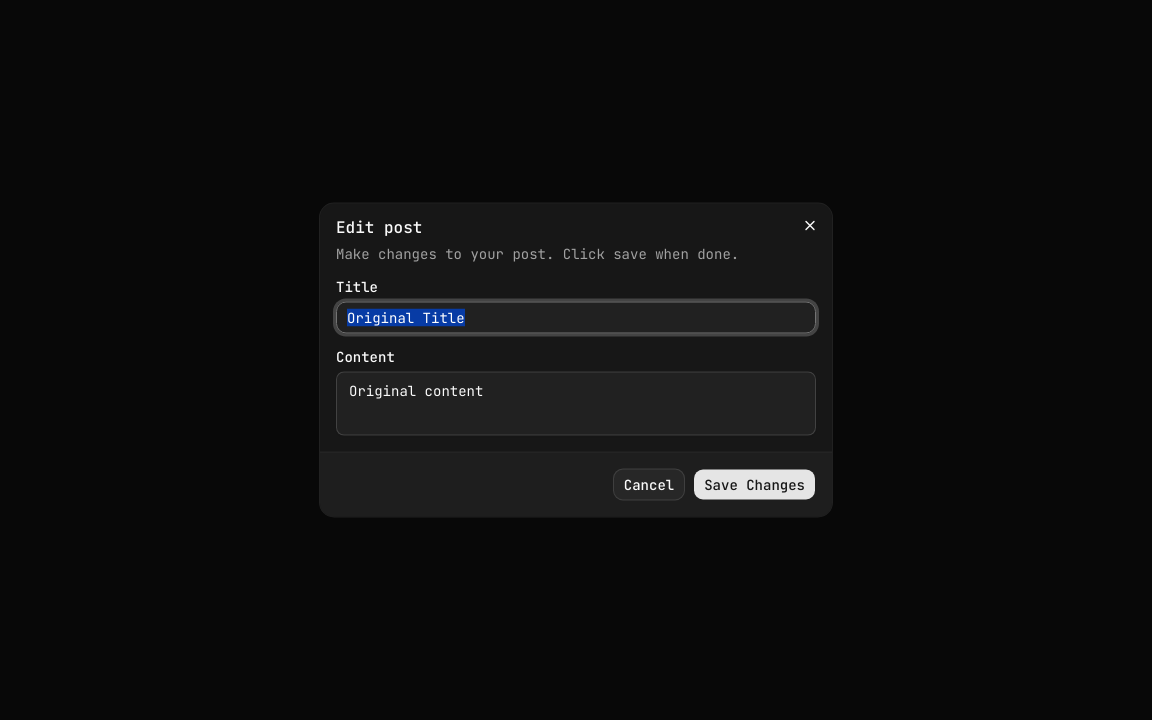
Test: EditPostDialog › shows error message when save fails
The image size is (1152, 720).
Click the button "Save Changes": (755, 484) [693,468,816,500]
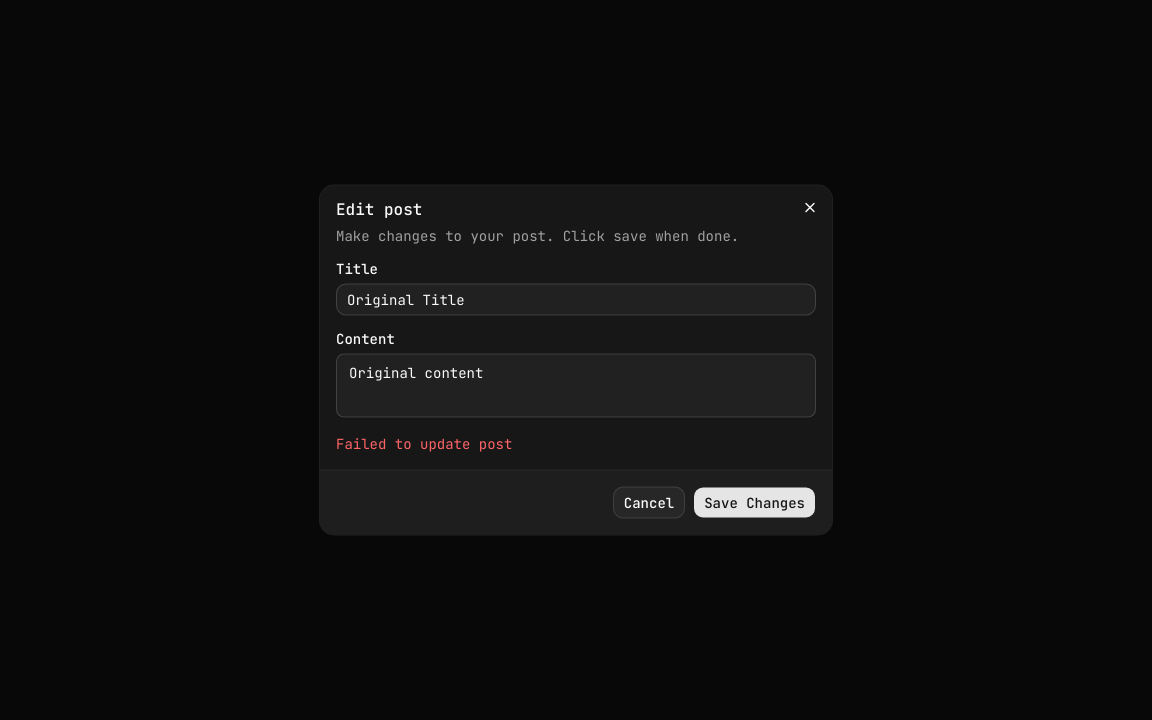
Expected: the text "Failed to update post" is shown, [336,434,512,452]
